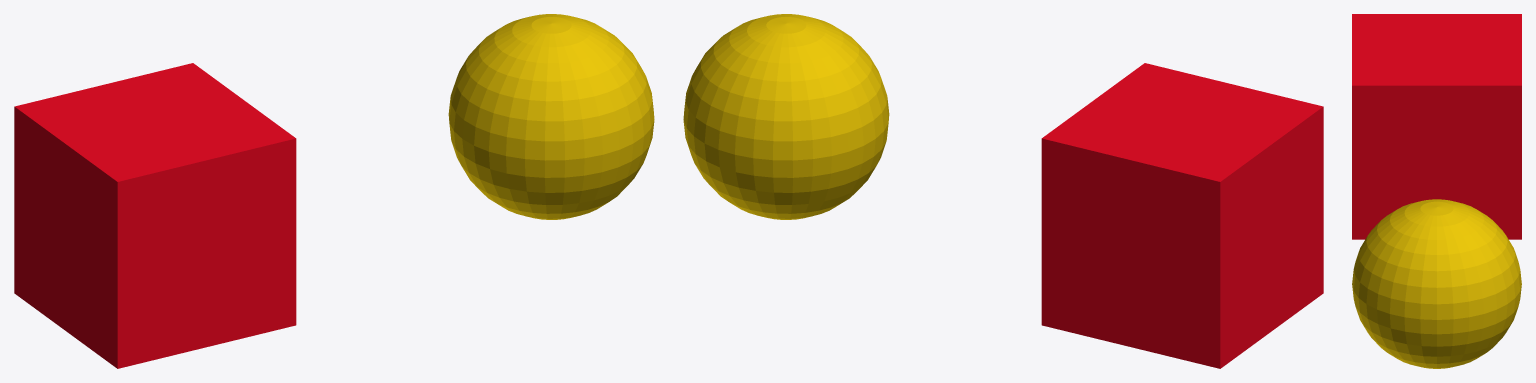
Rendered from sample2.glb.
The picture shows the model from 3 angles, left to right: view 1: azimuth 30°, elevation 25°; view 2: azimuth 150°, elevation 25°; view 3: azimuth 270°, elevation 25°; orthographic projection. The views are drawn at different scales.
Visible parts, largest first — view 1: Cube, Sphere; view 2: Cube, Sphere; view 3: Cube, Sphere.
Boxes of the visible parts, <box> form: Cube: <box>14,63,296,368</box>; Sphere: <box>448,14,654,219</box>; Cube: <box>1041,63,1323,368</box>; Sphere: <box>683,14,889,219</box>; Cube: <box>1352,14,1521,239</box>; Sphere: <box>1352,199,1521,368</box>.
Size of the model in its own units: 6.44 by 2.02 by 2.
